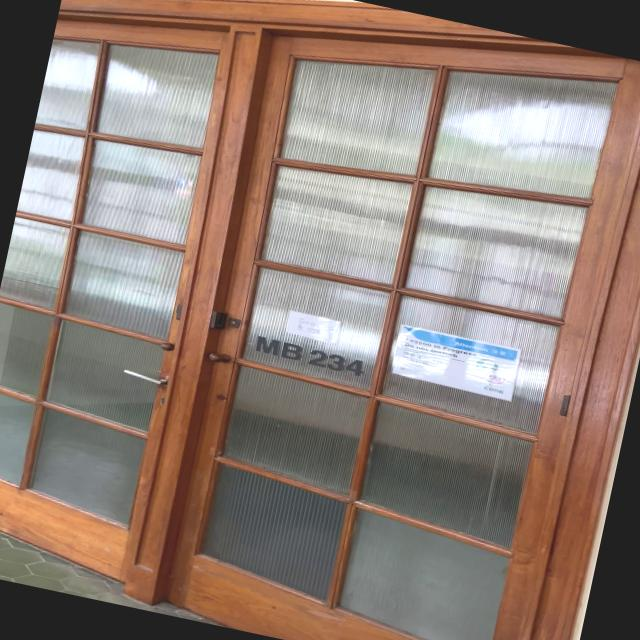room234Window: (246, 330, 370, 382)
